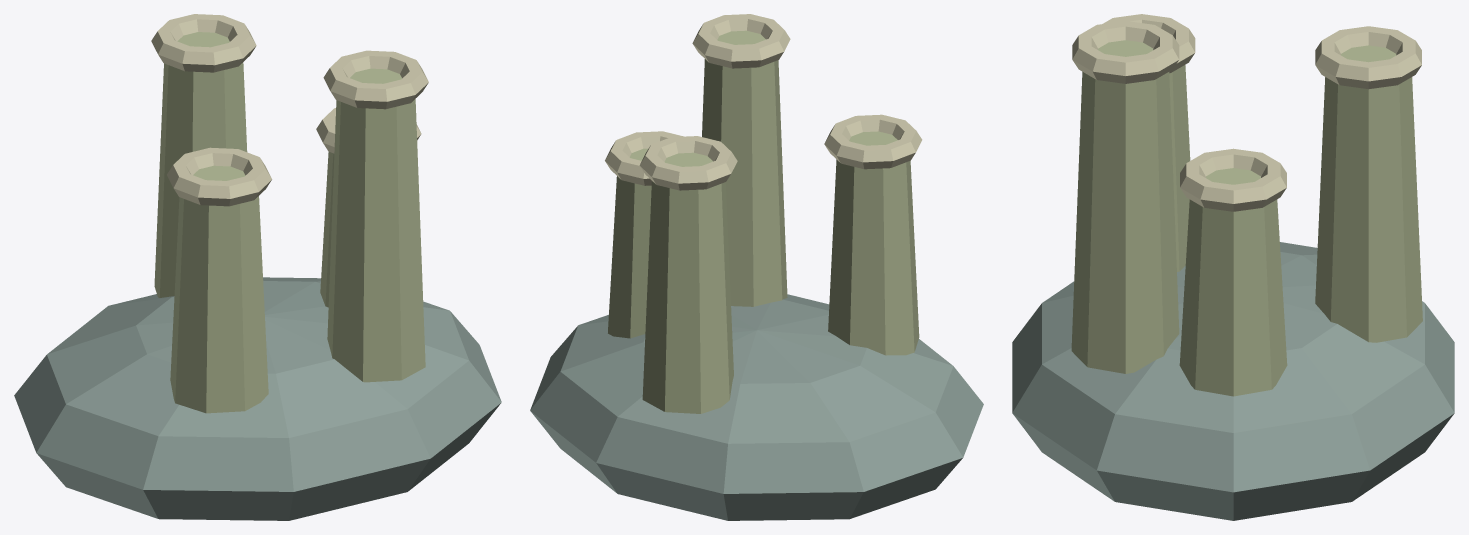
The model's file is marine-vent.glb.
The picture shows the model from 3 angles, left to right: view 1: azimuth 30°, elevation 25°; view 2: azimuth 150°, elevation 25°; view 3: azimuth 270°, elevation 25°; orthographic projection. The views are drawn at different scales.
Parts seen in each view (by area): view 1: marine-vent; view 2: marine-vent; view 3: marine-vent.
Boxes of the visible parts, x1,y1,x2,y2 form: marine-vent: (14, 14, 501, 520); marine-vent: (530, 14, 983, 520); marine-vent: (1012, 14, 1454, 520).
Bounding box in the file's own units: 2.8 × 2.61 × 2.28.
